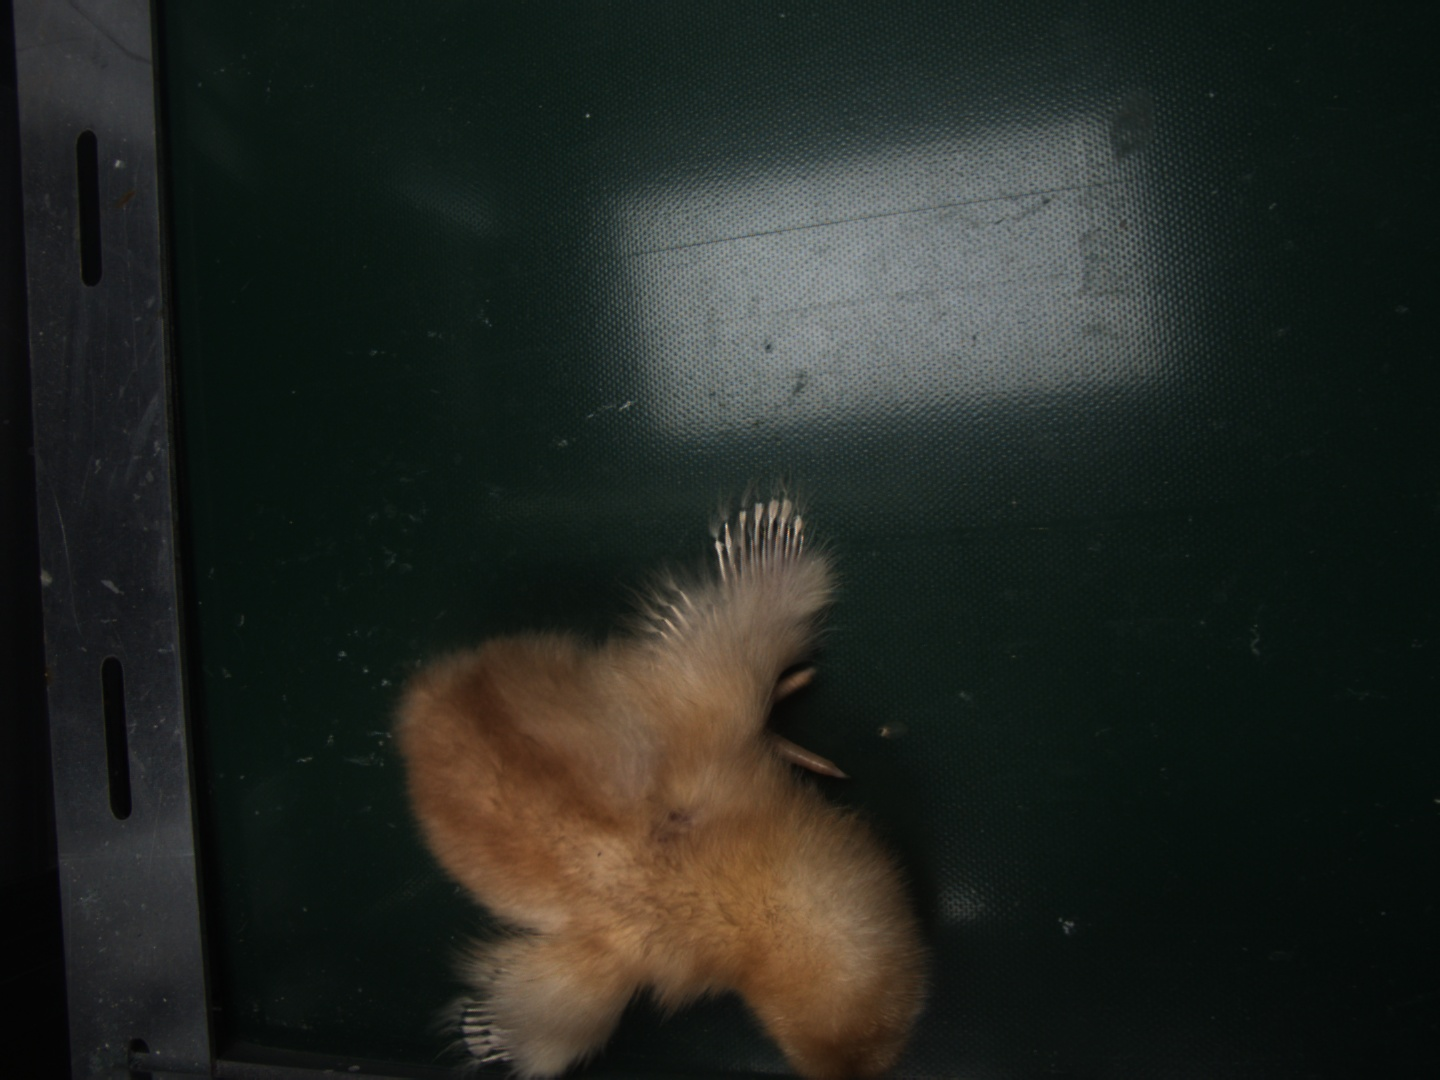female: (713, 499, 807, 590)
